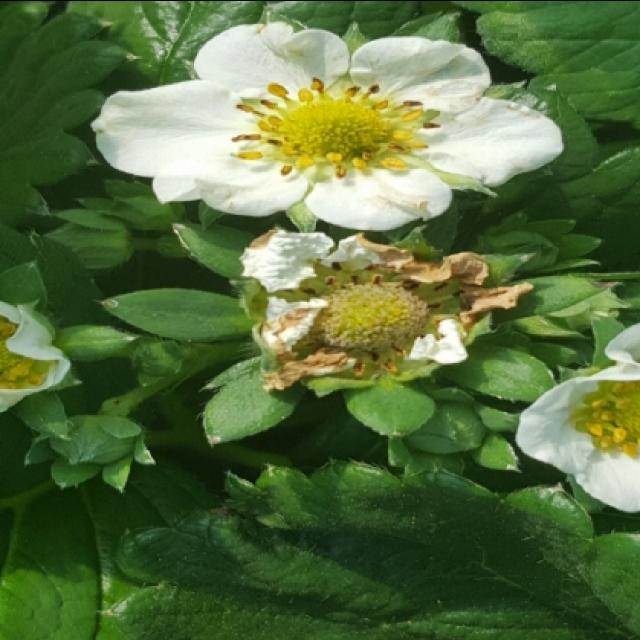Blossom Blight: (228, 72, 444, 181), (280, 257, 473, 377)
